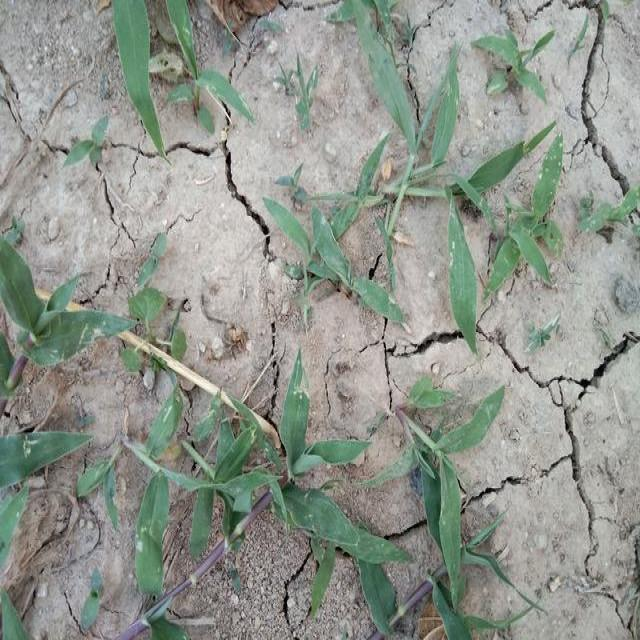weed: (88, 359, 416, 636), (332, 0, 536, 330), (0, 251, 127, 640), (378, 377, 540, 640), (242, 164, 449, 318), (111, 8, 246, 132), (482, 36, 562, 109), (266, 52, 334, 129), (62, 123, 111, 171)
